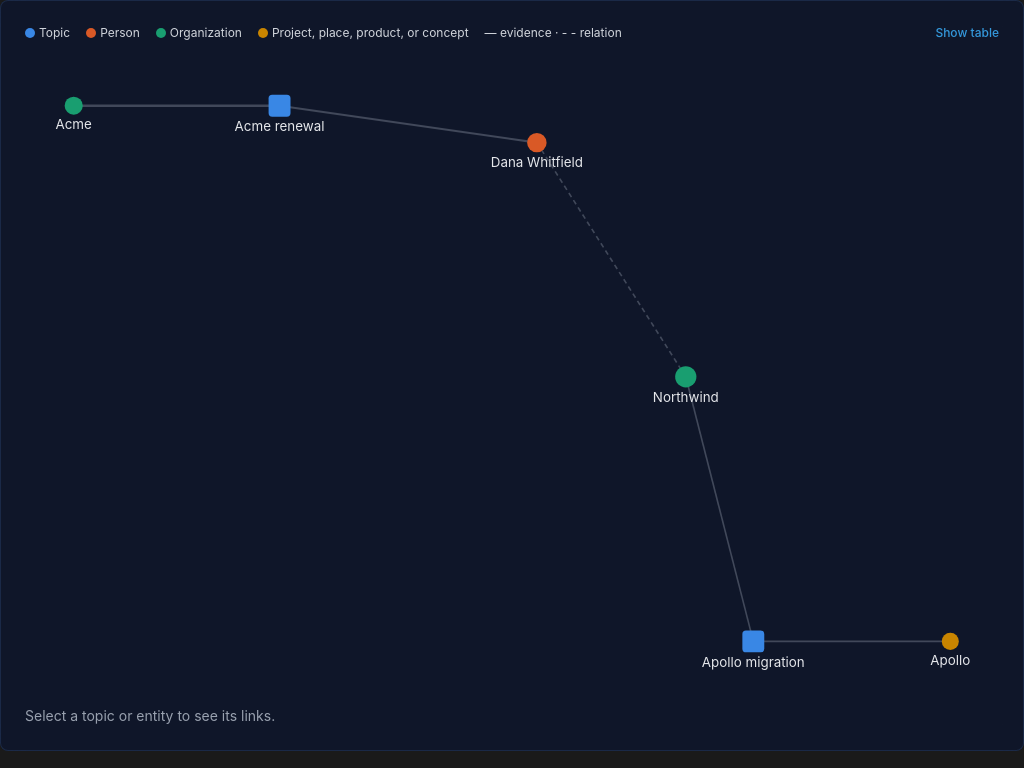
KnowledgeGraphView › selects nodes from the keyboard and offers a table of every link
Press Enter
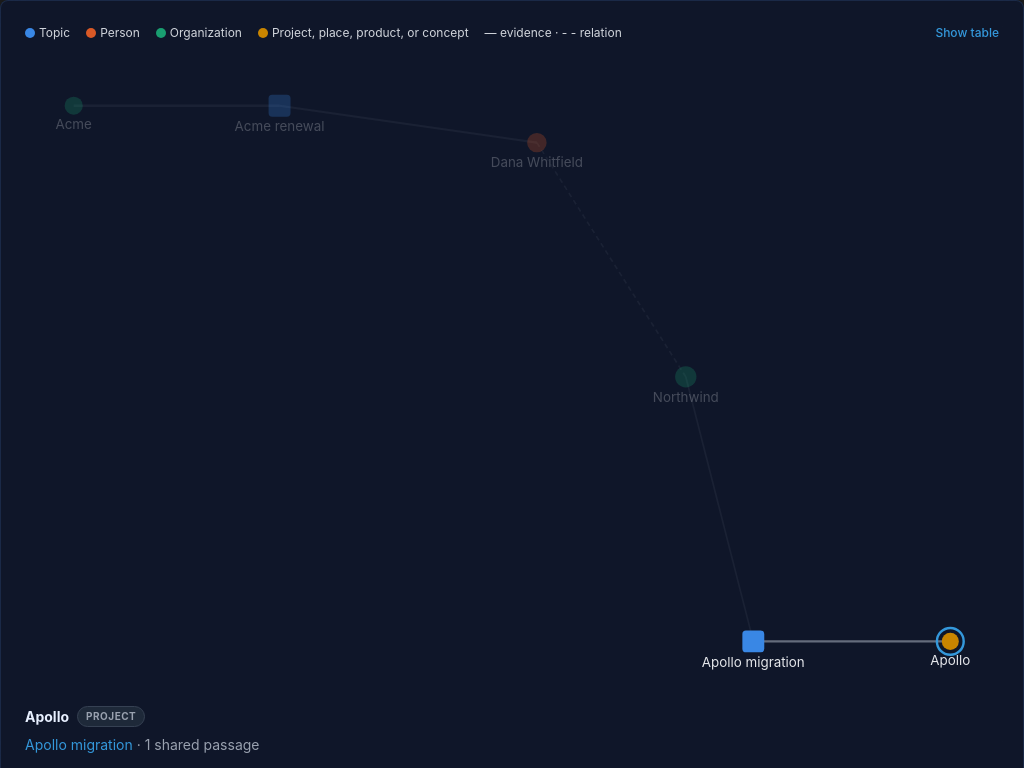
Click the button "Show table" at (967, 33), box [935,25,999,41]
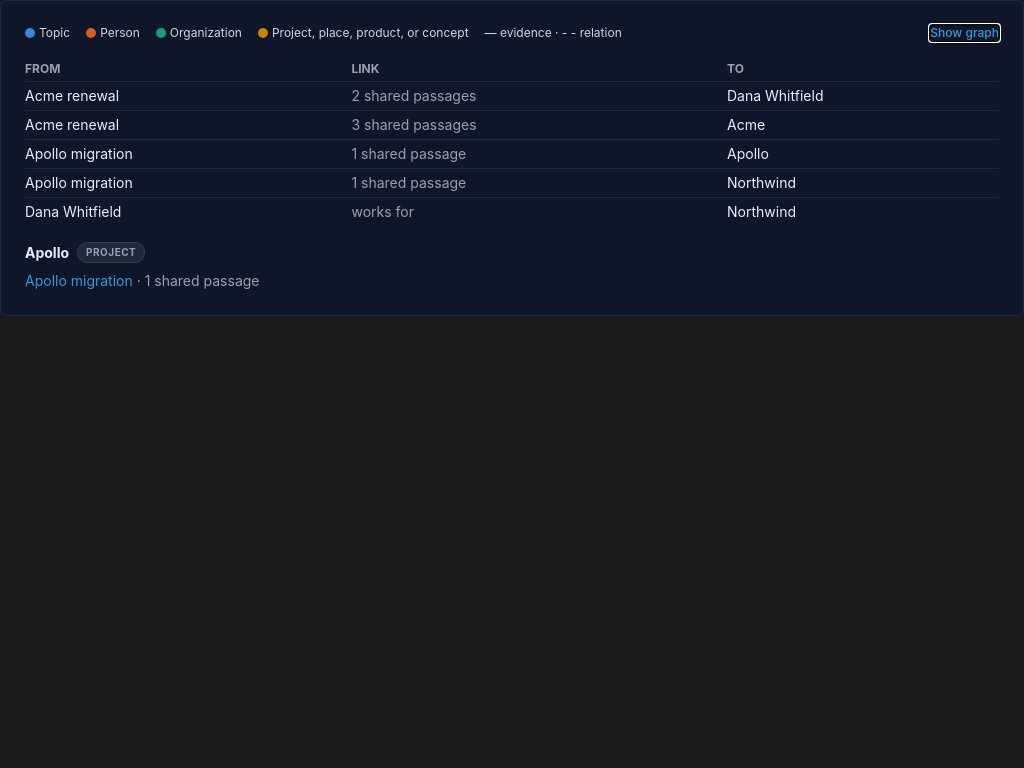
Now the number of rows is 6, box [25,57,999,82]; [25,82,999,110]; [25,110,999,140]; [25,140,999,168]; [25,168,999,198]; [25,198,999,226]
Now the table named "Knowledge graph connections" shows "3 shared passages", box [351,116,477,133]
